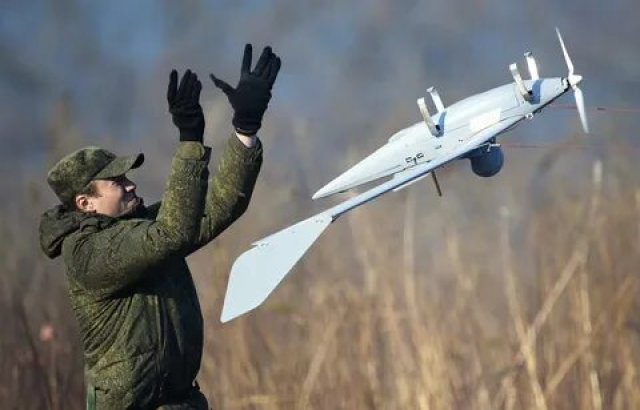military drone: (219, 25, 589, 324)
